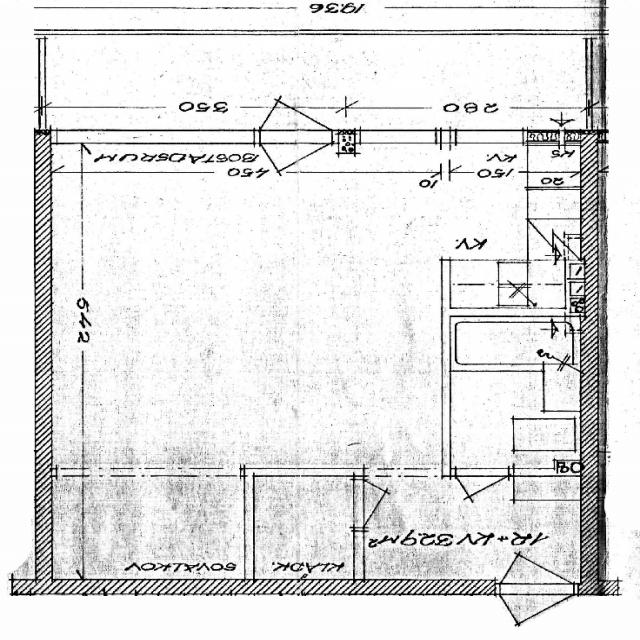door: (499, 507, 576, 596), (257, 131, 336, 217), (257, 58, 336, 143), (353, 480, 421, 532), (454, 469, 508, 526)
